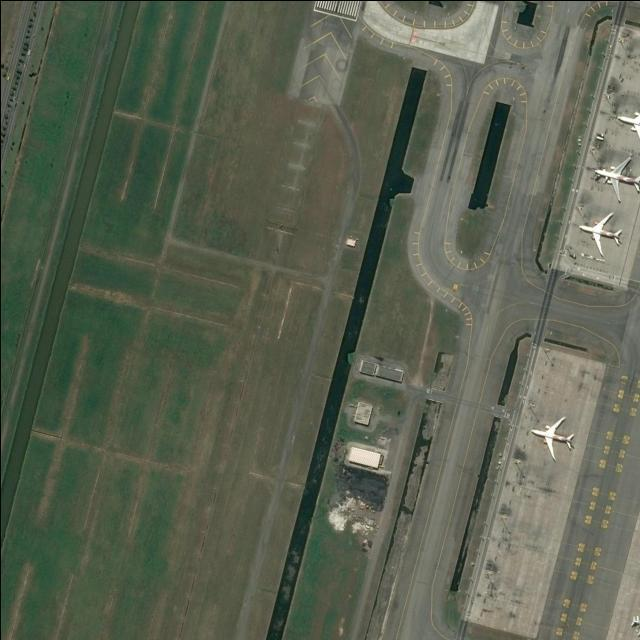Aircraft: (530, 413, 581, 464), (591, 155, 640, 205), (578, 209, 626, 260), (614, 100, 640, 150), (626, 613, 640, 639)
